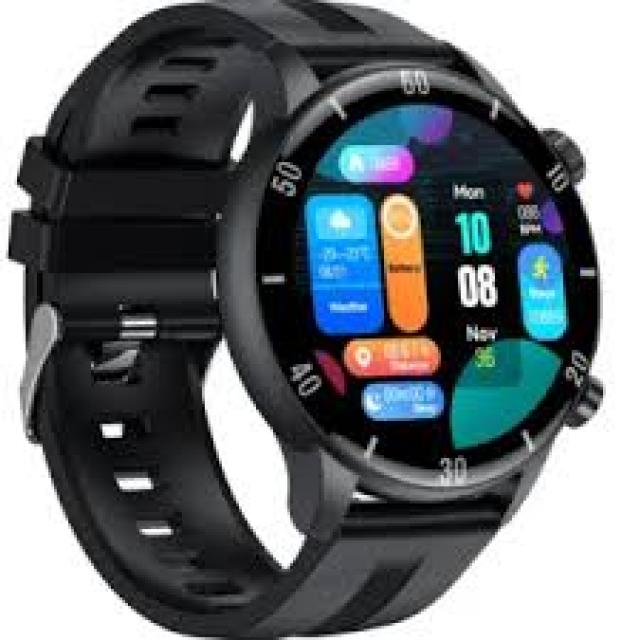objects: (9, 0, 600, 637)
